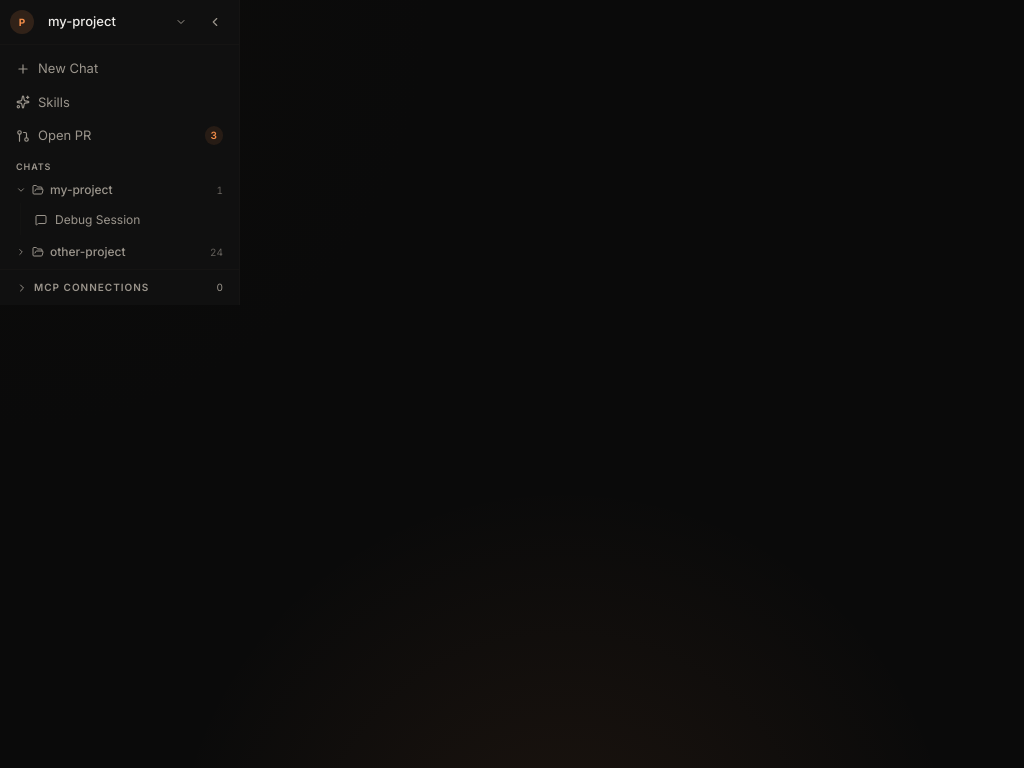
Sidebar › shows four recent sessions by default and reveals the rest in a dropdown
The image size is (1024, 768).
Expected: the text "New Chat" is shown, [38,59,98,78]
Expected: the text "Chats" is shown, [16,160,51,172]
Click the button "other-project 24": (120, 252) [8,239,231,265]
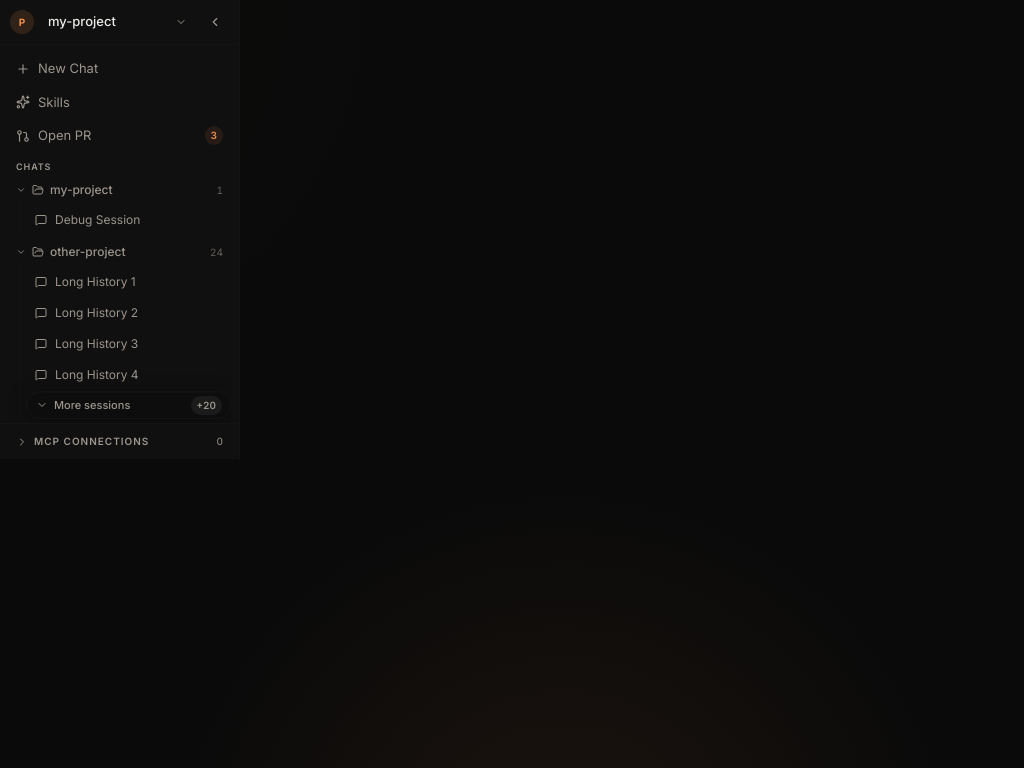
Expected: the text "Long History 1" is shown, [55,274,136,289]
Expected: the text "Long History 2" is shown, [55,305,138,320]
Expected: the text "Long History 3" is shown, [55,336,138,351]
Press the mouse on the button with aria-label "show more sessions": (129, 405) [27,391,231,419]
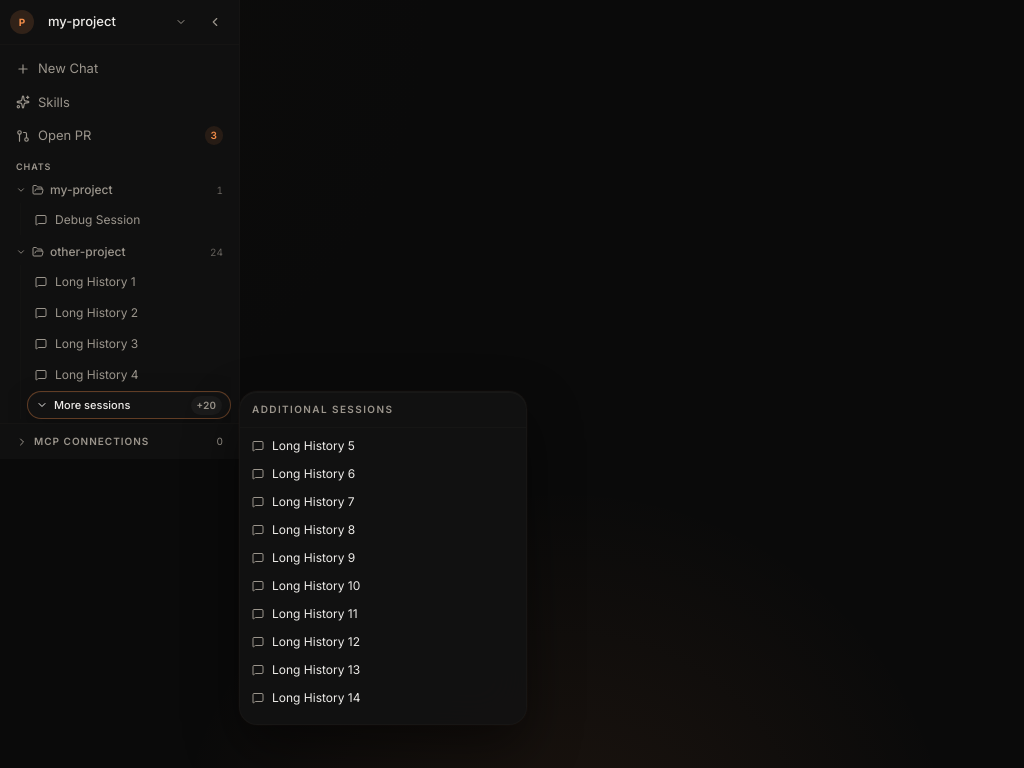
Expected: the text "Long History 5" is shown, [272,438,355,453]
